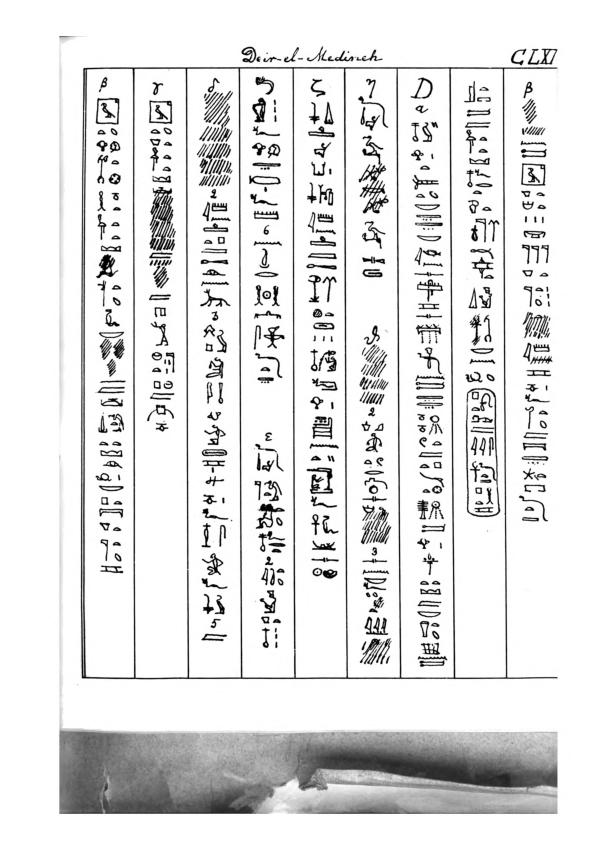circle: (464, 386, 502, 519)
